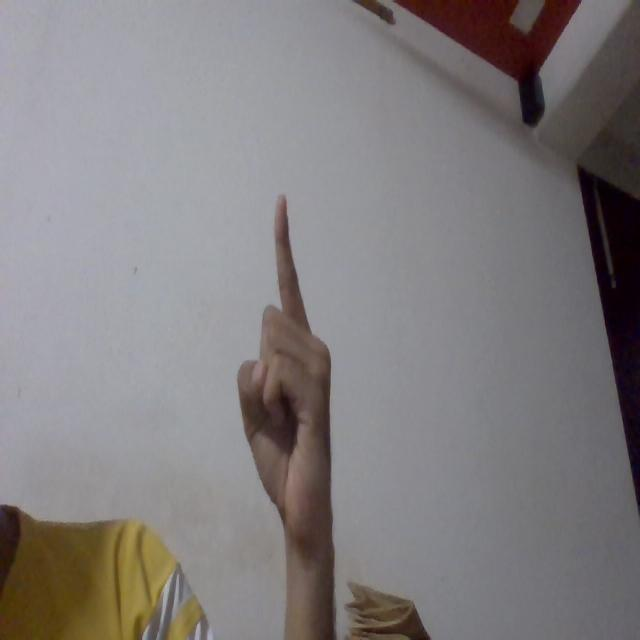Z: (219, 145, 373, 573)
